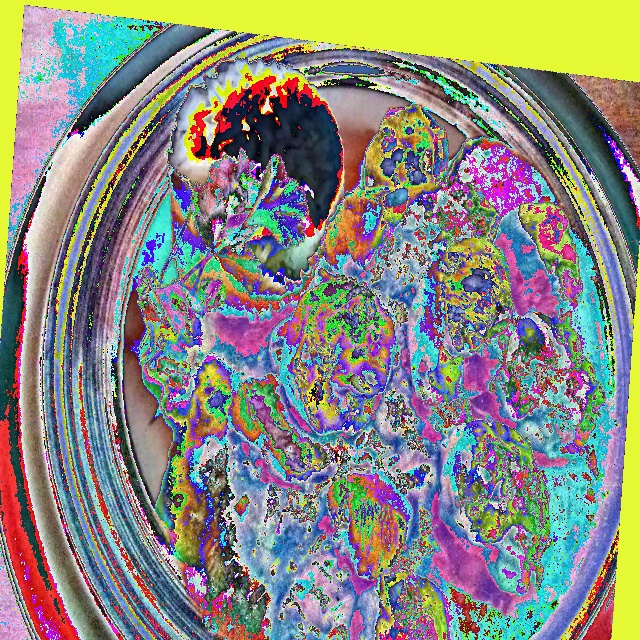background: (136, 56, 606, 639)
